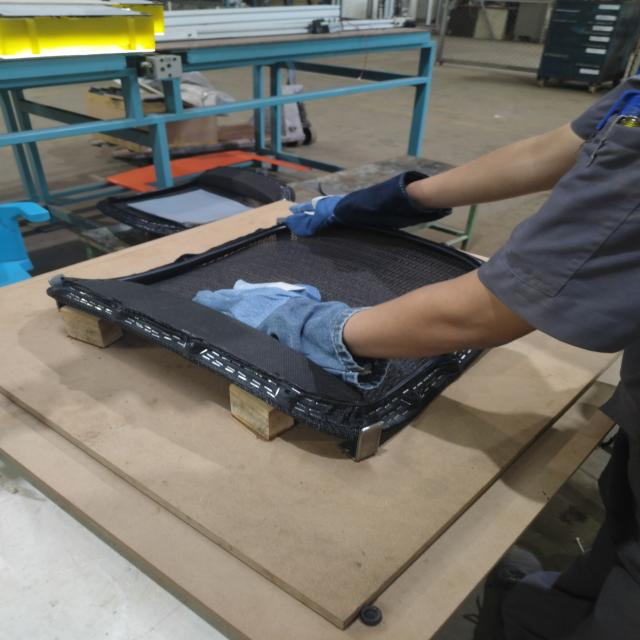Gloves-Detection: (202, 278, 356, 376), (281, 181, 434, 231)
